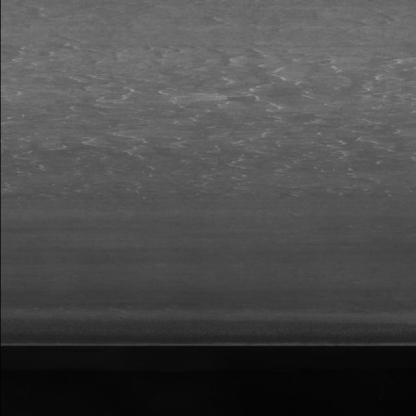silk_spot: (42, 23, 219, 177), (191, 37, 320, 171), (305, 53, 415, 157)
